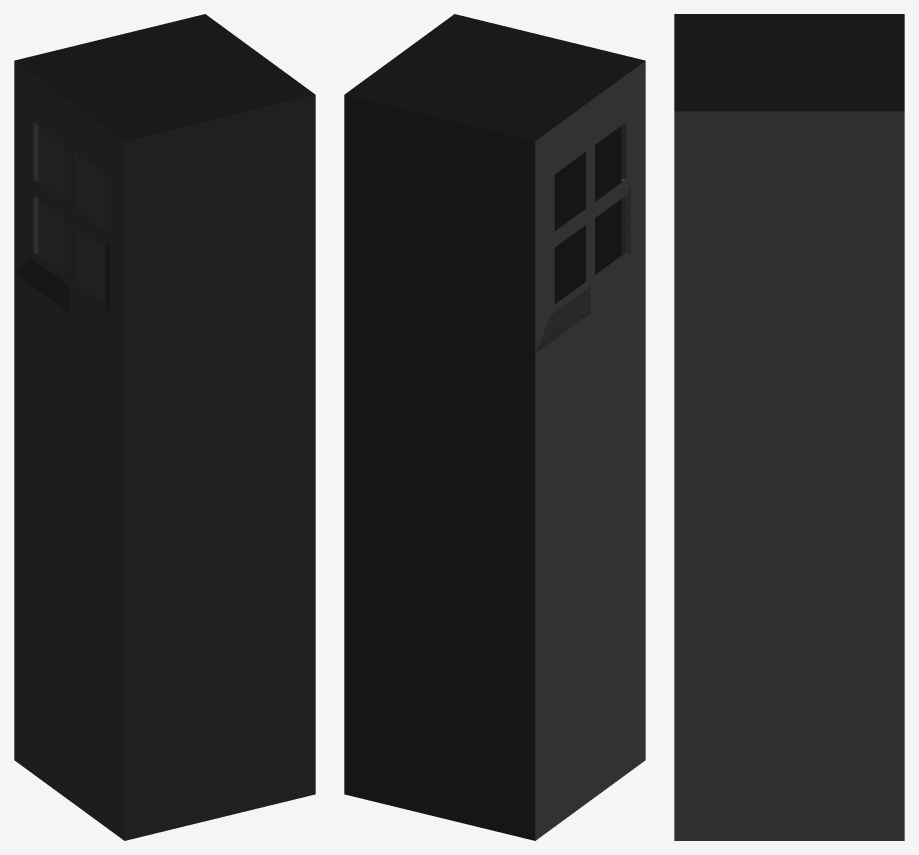
File: closet.fbx
3 renders of one model, left to right at view 1: azimuth 30°, elevation 25°; view 2: azimuth 150°, elevation 25°; view 3: azimuth 270°, elevation 25°, orthographic. The views are drawn at different scales.
Parts seen in each view (by area): view 1: cube (×6); view 2: cube (×6); view 3: cube (×3).
Boxes of the visible parts, x1,y1,x2,y2 form: cube (×6): [14, 14, 315, 840]; cube (×6): [344, 14, 645, 840]; cube (×3): [674, 14, 904, 840].
Bounding box in the file's own units: 1 × 3.5 × 1.
